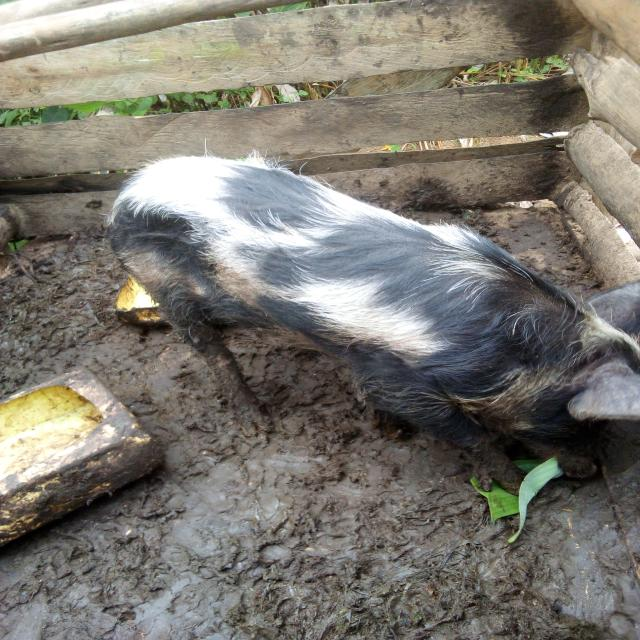pig: (82, 91, 640, 530)
